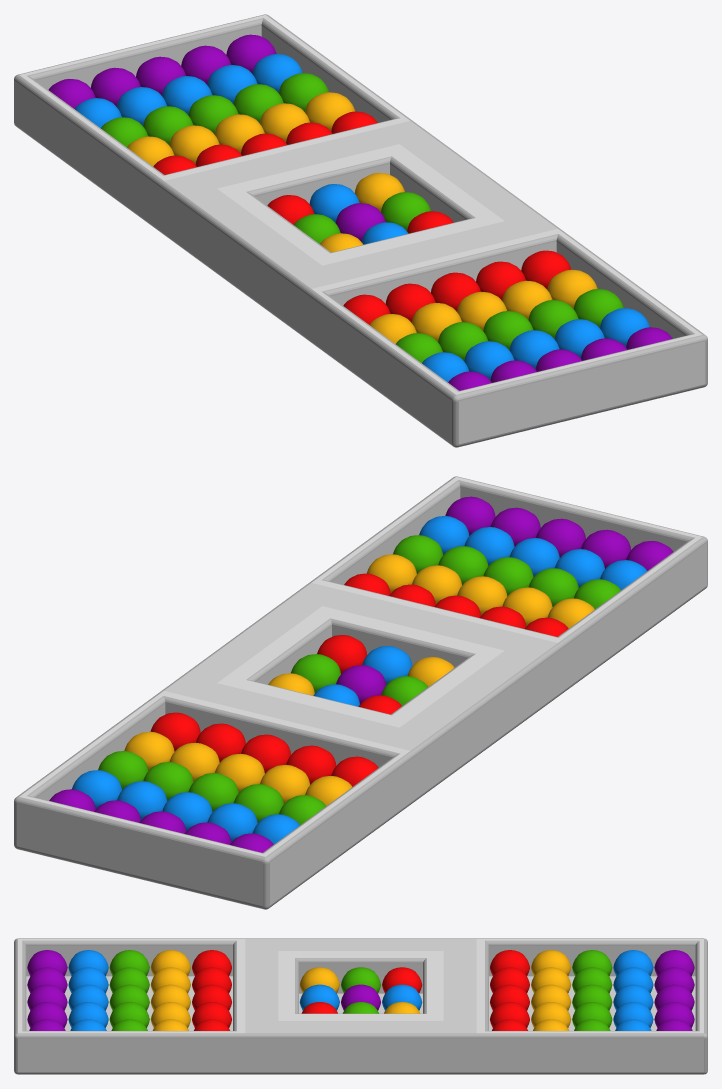
File: candy.fbx
3 views of the same model, one above another, from view 1: azimuth 30°, elevation 25°; view 2: azimuth 150°, elevation 25°; view 3: azimuth 270°, elevation 25° (orthographic). The views are drawn at different scales.
Visible parts, largest first — view 1: base, Plane.037, Plane.043, Plane.046, Plane.015, Plane.016, Plane.010, Plane.011, Plane.012, Plane.024, Plane.026, Plane.038 (+35 smaller); view 2: base, Plane.021, Plane.011, Plane.017, Plane.009, Plane.041, Plane.042, Plane.012, Plane.025, Plane.026, Plane.036, Plane.037 (+35 smaller); view 3: base, Plane.010, Plane.014, Plane.036, Plane.040, Plane.000, Plane.030, Plane.011, Plane.023, Plane.037, Plane.048, Plane.018 (+48 smaller).
Part boxes in pixels (box(x1,y1,x2,y2)): base: box(14, 14, 707, 447); Plane.037: box(117, 87, 166, 125); Plane.043: box(214, 114, 264, 153); Plane.046: box(233, 84, 283, 123); Plane.015: box(483, 311, 533, 349); Plane.016: box(509, 330, 559, 369); Plane.010: box(438, 322, 488, 361); Plane.011: box(464, 341, 514, 380); Plane.012: box(412, 303, 461, 341); Plane.024: box(521, 250, 571, 289); Plane.026: box(573, 289, 623, 327); Plane.038: box(169, 125, 219, 164); base: box(14, 476, 707, 909); Plane.021: box(438, 546, 488, 585); Plane.011: box(555, 549, 604, 587); Plane.017: box(457, 576, 507, 615); Plane.009: box(581, 529, 631, 568); Plane.041: box(188, 773, 238, 811); Plane.042: box(162, 792, 212, 831); Plane.012: box(502, 587, 552, 626); Plane.025: box(445, 496, 495, 535); Plane.026: box(393, 535, 443, 573); Plane.036: box(233, 784, 283, 823); Plane.037: box(207, 803, 257, 842); base: box(14, 938, 707, 1074); Plane.010: box(109, 967, 149, 993); Plane.014: box(27, 984, 67, 1010); Plane.036: box(572, 967, 612, 993); Plane.040: box(654, 984, 694, 1010); Plane.000: box(27, 950, 67, 975); Plane.030: box(654, 950, 694, 975); Plane.011: box(68, 967, 108, 993); Plane.023: box(150, 1002, 190, 1027); Plane.037: box(613, 967, 653, 993); Plane.048: box(531, 1002, 571, 1027); Plane.018: box(192, 950, 231, 975).
Size of the model in its own units: 200 by 39.08 by 600.
